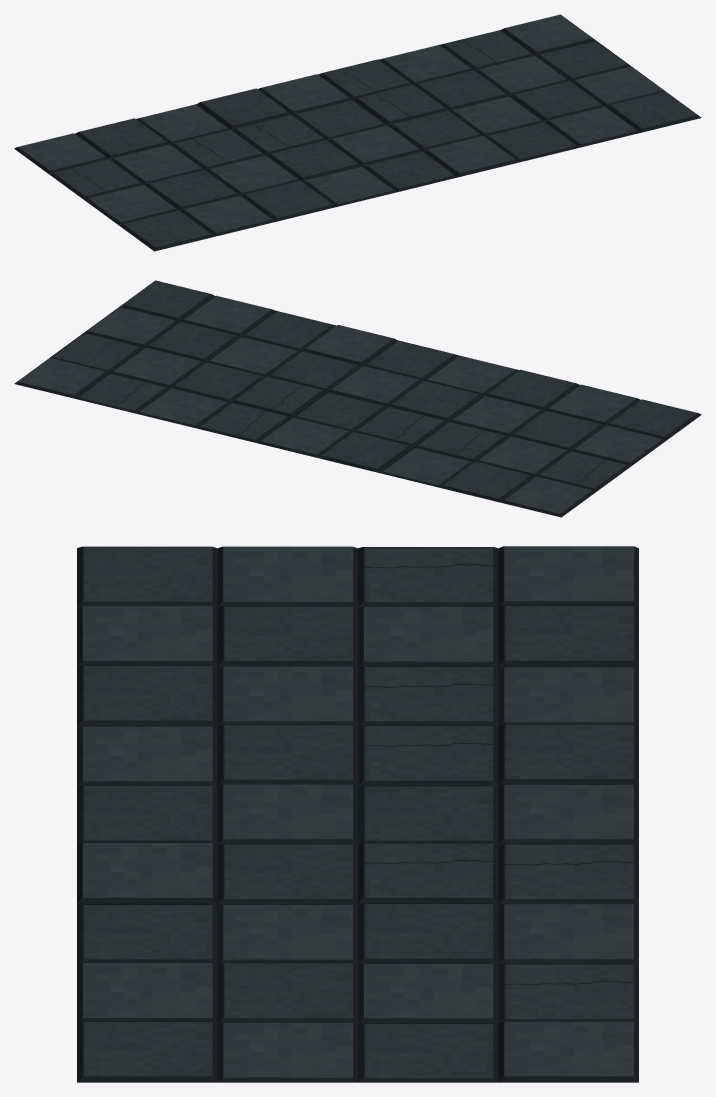
Rendered from T1_FloorStrip_W9_B.fbx.
3 views of the same model, one above another, from view 1: azimuth 30°, elevation 25°; view 2: azimuth 150°, elevation 25°; view 3: azimuth 270°, elevation 25° (orthographic). The views are drawn at different scales.
Visible parts, largest first — view 1: T1_FloorStrip_W9_B; view 2: T1_FloorStrip_W9_B; view 3: T1_FloorStrip_W9_B.
Boxes of the visible parts, left/top/right/bottom form: T1_FloorStrip_W9_B: left=14, top=14, right=701, bottom=251; T1_FloorStrip_W9_B: left=14, top=280, right=701, bottom=517; T1_FloorStrip_W9_B: left=77, top=546, right=638, bottom=1082.
Bounding box in the file's own units: 10.12 × 0.0409 × 4.5.
